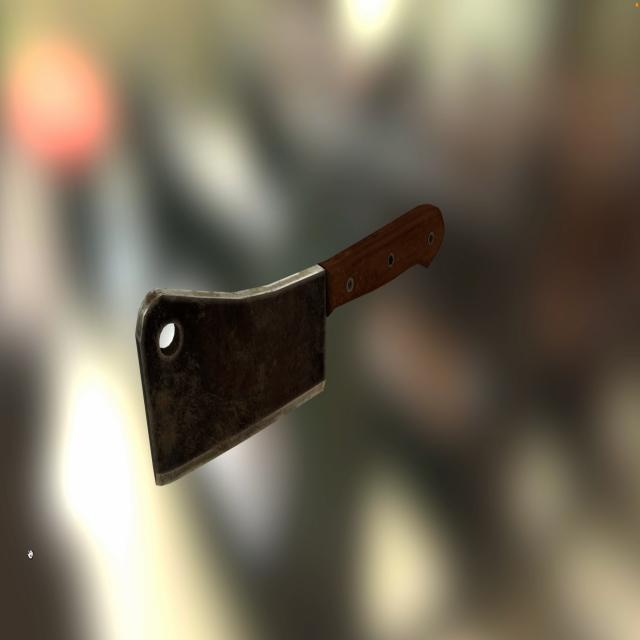cleaver: (140, 200, 442, 482)
